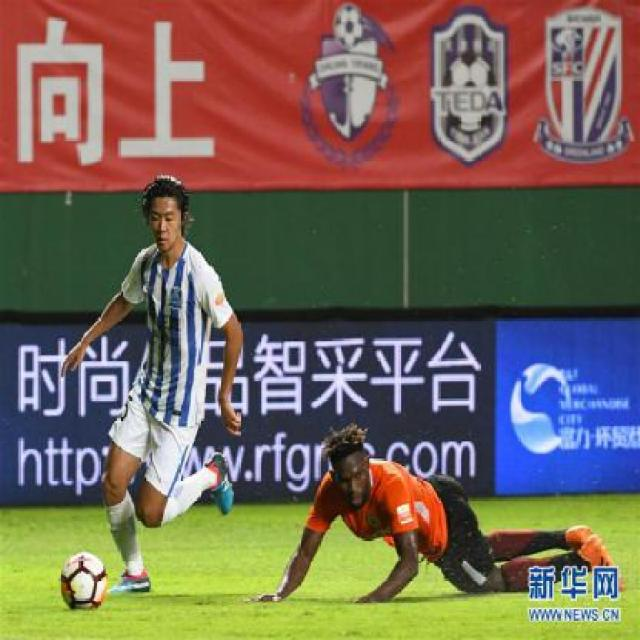fall: (242, 416, 618, 607)
